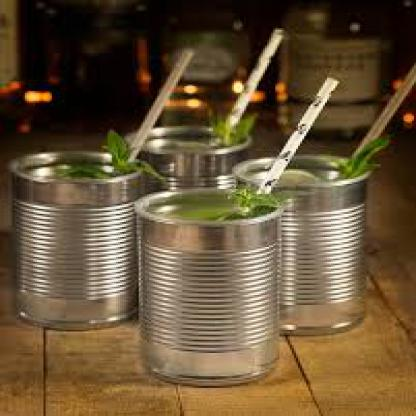METAL: (132, 184, 280, 384), (6, 149, 147, 330), (230, 152, 368, 335), (118, 124, 250, 198)
